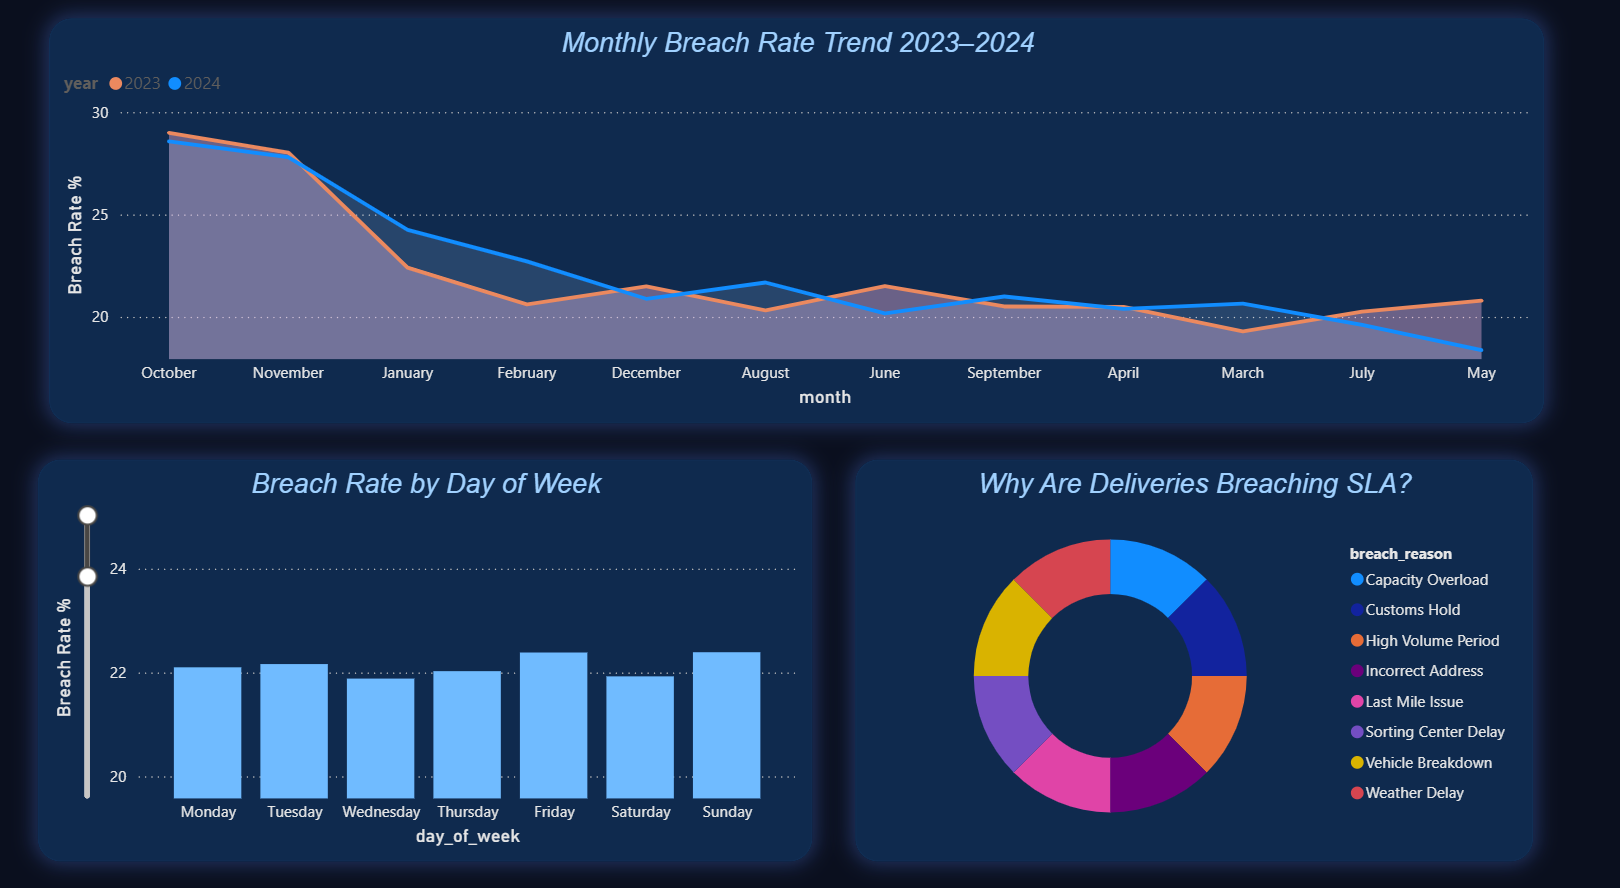

The page's visual inventory and layout, read from the dashboard file:
{"tool":"powerbi","page":{"name":"Time & operations ","canvas":[1280,720],"ordinal":1},"visuals":[{"type":"lineChart","title":"Monthly Breach Rate Trend 2023–2024","fields":{"Y":["logistics_data.Breach Rate %"],"Category":["logistics_data.month"],"Series":["logistics_data.year"]},"box":[39,20.5,1175.5,318.3],"z":0},{"type":"clusteredColumnChart","title":"Breach Rate by Day of Week","fields":{"Category":["breach_by_day.day_of_week"],"Y":["logistics_data.Breach Rate %"]},"box":[30.8,367.5,608.8,316.2],"z":1000},{"type":"donutChart","title":"Why Are Deliveries Breaching SLA?","fields":{"Category":["breach_by_reason.breach_reason"],"Y":["CountNonNull(breach_by_reason.occurrences)"]},"box":[673.5,367.5,532.8,316.2],"z":2000}]}

Visuals, with their boxes in screenshot pixels (x1, y1, x2, y2), scaled from the page's 1280x720 canvas onto the 1620x888 screenshot:
"Monthly Breach Rate Trend 2023–2024" lineChart: {"left": 49, "top": 25, "right": 1537, "bottom": 418}
"Breach Rate by Day of Week" clusteredColumnChart: {"left": 39, "top": 453, "right": 809, "bottom": 843}
"Why Are Deliveries Breaching SLA?" donutChart: {"left": 852, "top": 453, "right": 1527, "bottom": 843}
